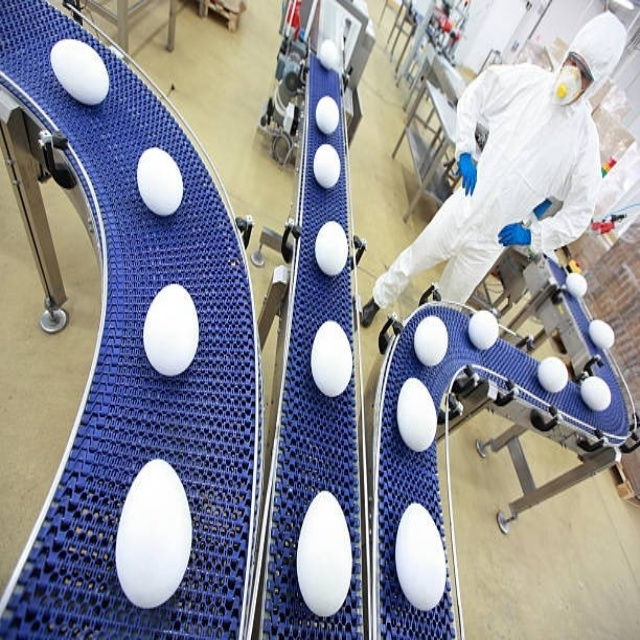Gafas: (566, 52, 593, 83)
Guantes: (499, 216, 531, 254), (454, 152, 479, 196)
Mascara: (553, 64, 582, 103)
